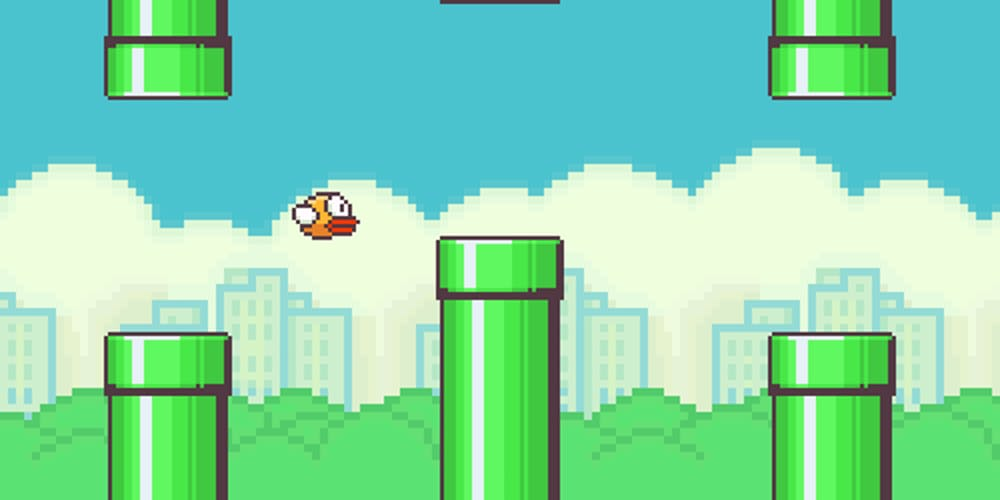cavity: (102, 334, 235, 500)
flappybird: (288, 197, 365, 241)
green-pipe-down: (435, 234, 567, 500), (771, 334, 899, 500), (105, 332, 229, 500)
green-pipe-up: (771, 4, 900, 99), (106, 1, 229, 96)
